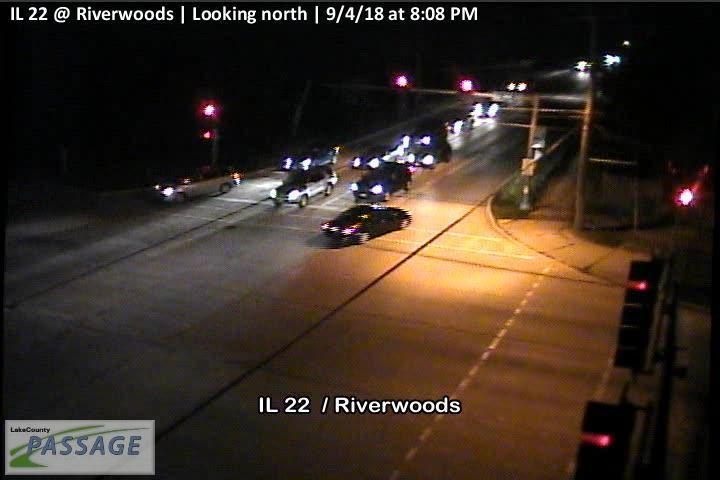SUV: (271, 165, 339, 209)
Sedan: (319, 204, 413, 246), (151, 165, 241, 203), (349, 161, 413, 204), (281, 143, 337, 170), (407, 142, 453, 169)
